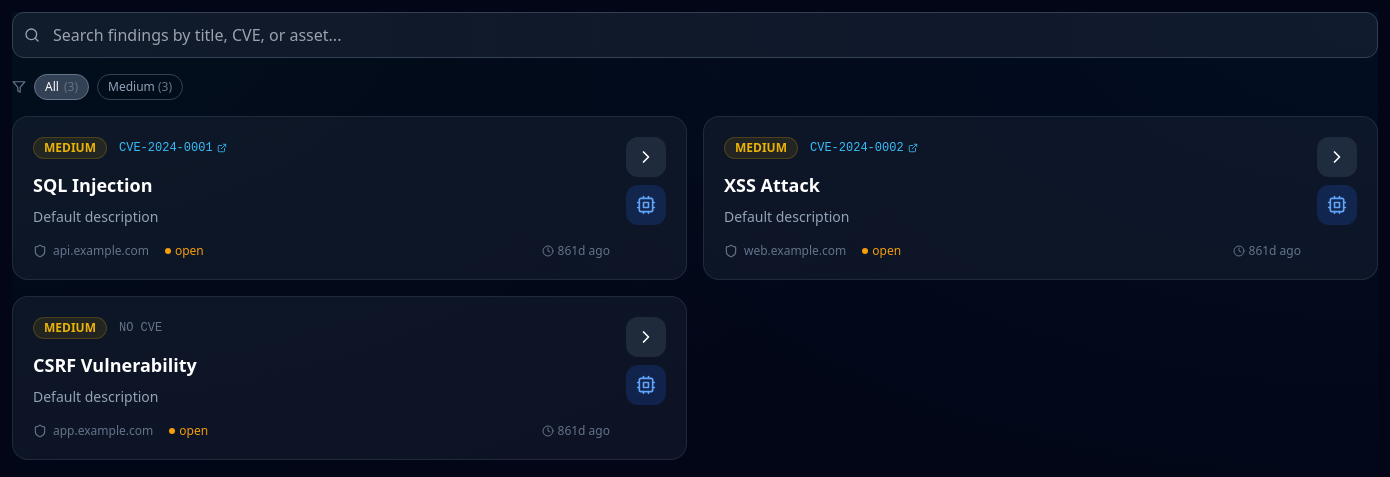
Test case: VulnerabilityList › filters vulnerabilities by title
The width and height of the screenshot is (1390, 477).
Type "sql" into the field with placeholder "Search findings by title, CVE, or asset..." at (695, 35), box [12,12,1378,58]
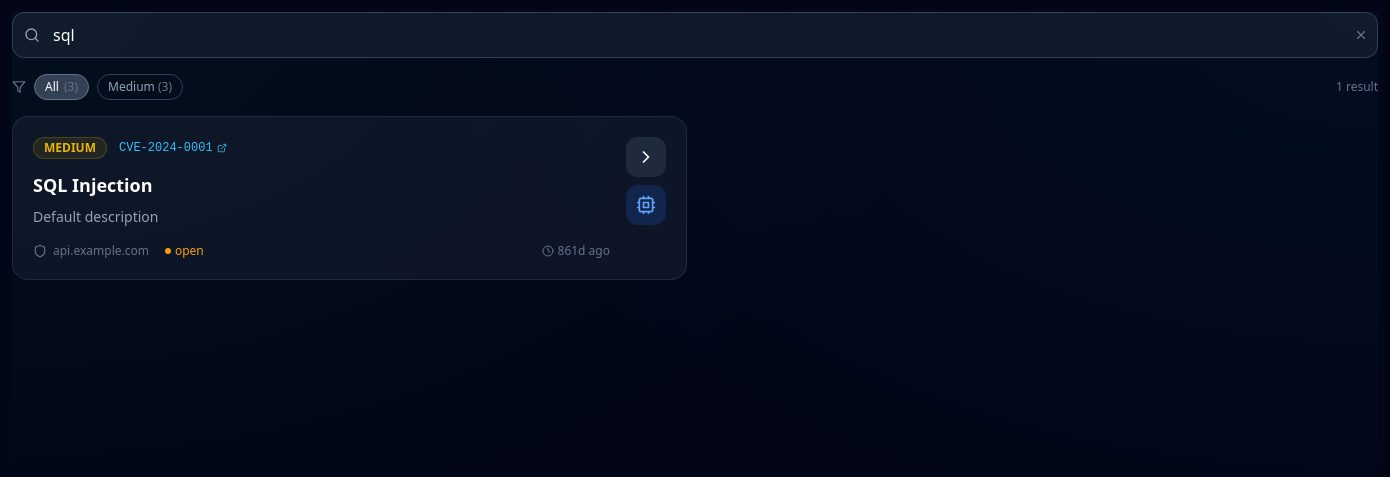
Expected: the heading "SQL Injection" is shown, [33,173,153,197]
Expected: the heading "XSS Attack" is gone
Expected: the heading "CSRF Vulnerability" is gone
